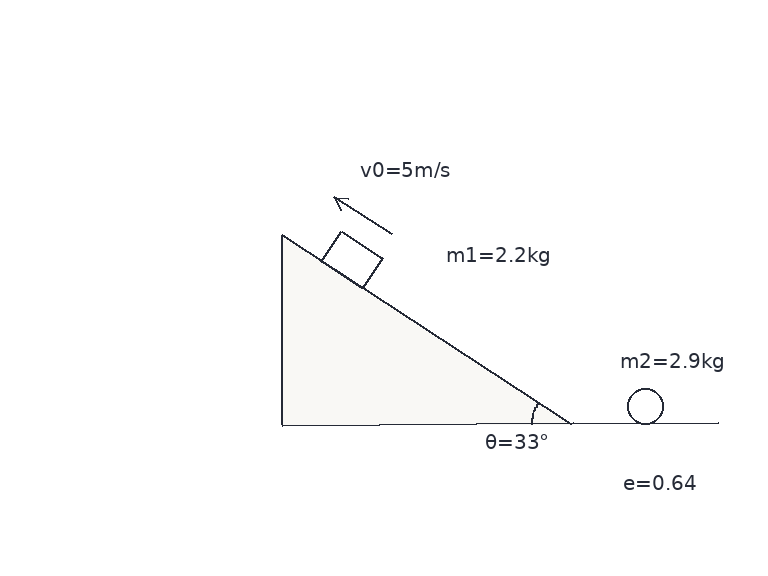ball: (625, 386, 665, 426)
block: (319, 229, 384, 290)
ramp: (280, 234, 574, 426)
